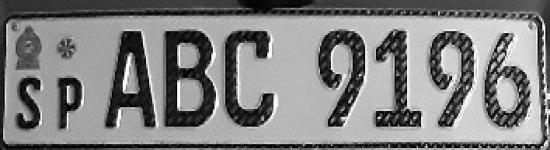1: (370, 20, 426, 132)
6: (481, 27, 535, 134)
9: (314, 19, 369, 135), (425, 24, 479, 133)
A: (101, 25, 162, 134)
B: (221, 23, 287, 134), (161, 23, 222, 134)
P: (53, 71, 88, 136)
S: (13, 71, 51, 136)
